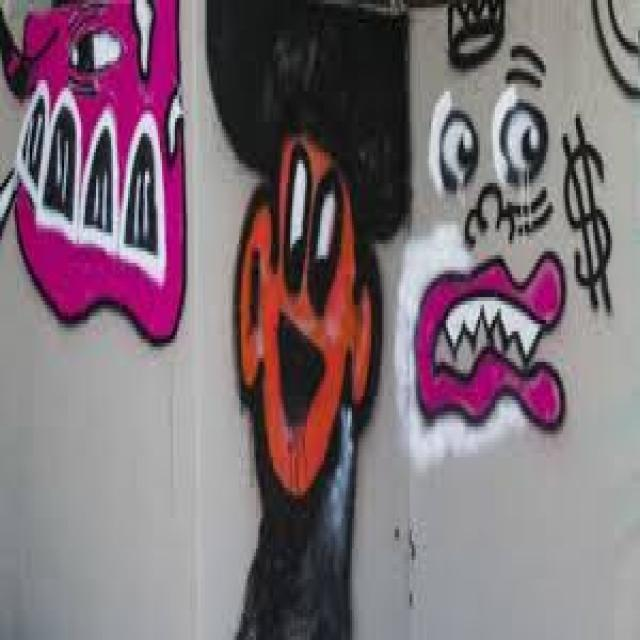-: (207, 3, 410, 640), (0, 0, 186, 345), (436, 3, 554, 242), (413, 254, 566, 436), (562, 110, 618, 318), (592, 2, 640, 104)
